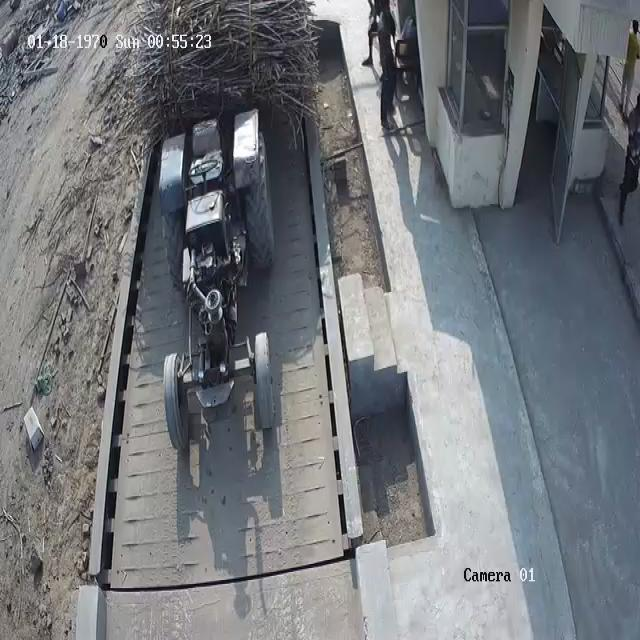Tratores - v5 YOLO V8L 2024-11-13: (152, 130, 277, 452)
